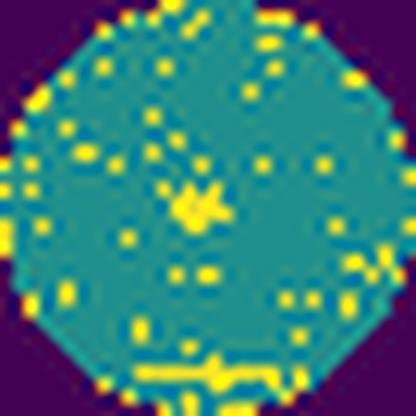Center: (162, 174, 238, 238)
